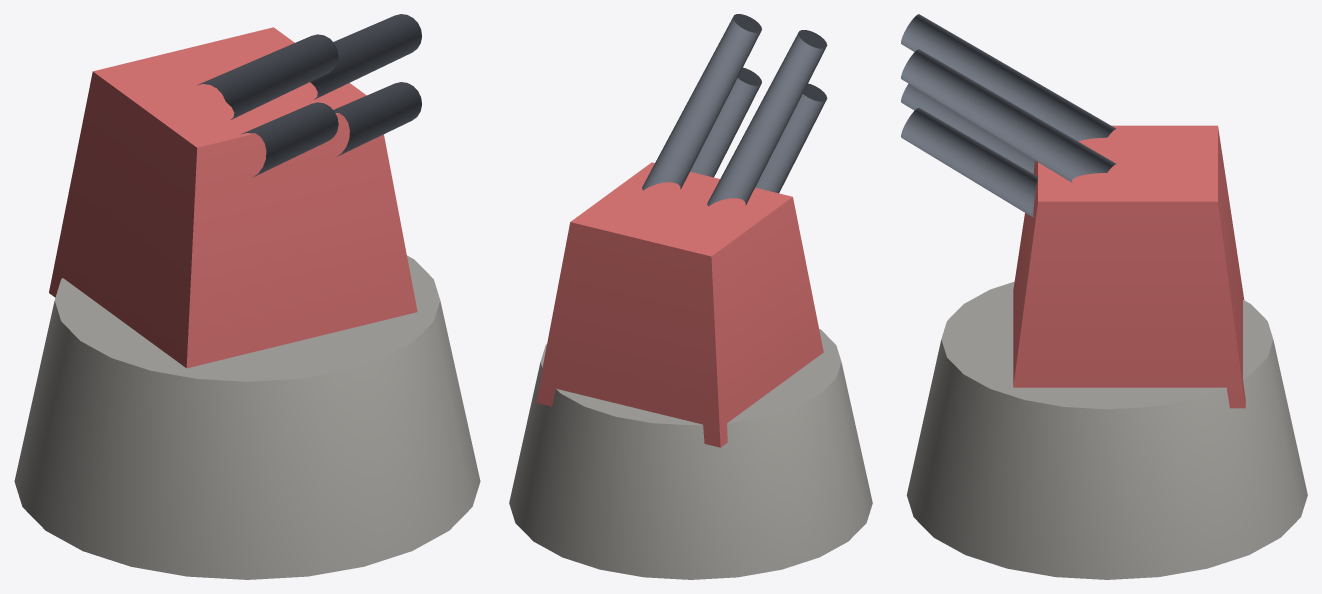
The model's file is naflak.glb.
3 views of the same model, side by side, from view 1: azimuth 30°, elevation 25°; view 2: azimuth 150°, elevation 25°; view 3: azimuth 270°, elevation 25° (orthographic). The views are drawn at different scales.
Visible parts, largest first — view 1: Hull, Turret, Barrel; view 2: Turret, Hull, Barrel; view 3: Turret, Hull, Barrel.
Boxes of the visible parts, x1,y1,x2,y2 form: Hull: (14, 301, 480, 579); Turret: (49, 16, 440, 378); Barrel: (198, 14, 433, 381); Turret: (536, 25, 841, 447); Hull: (509, 362, 872, 579); Barrel: (646, 14, 835, 346); Turret: (903, 20, 1273, 409); Hull: (906, 340, 1307, 579); Barrel: (901, 14, 1109, 388).
Bounding box in the file's own units: 1.04 × 1.33 × 1.06.
